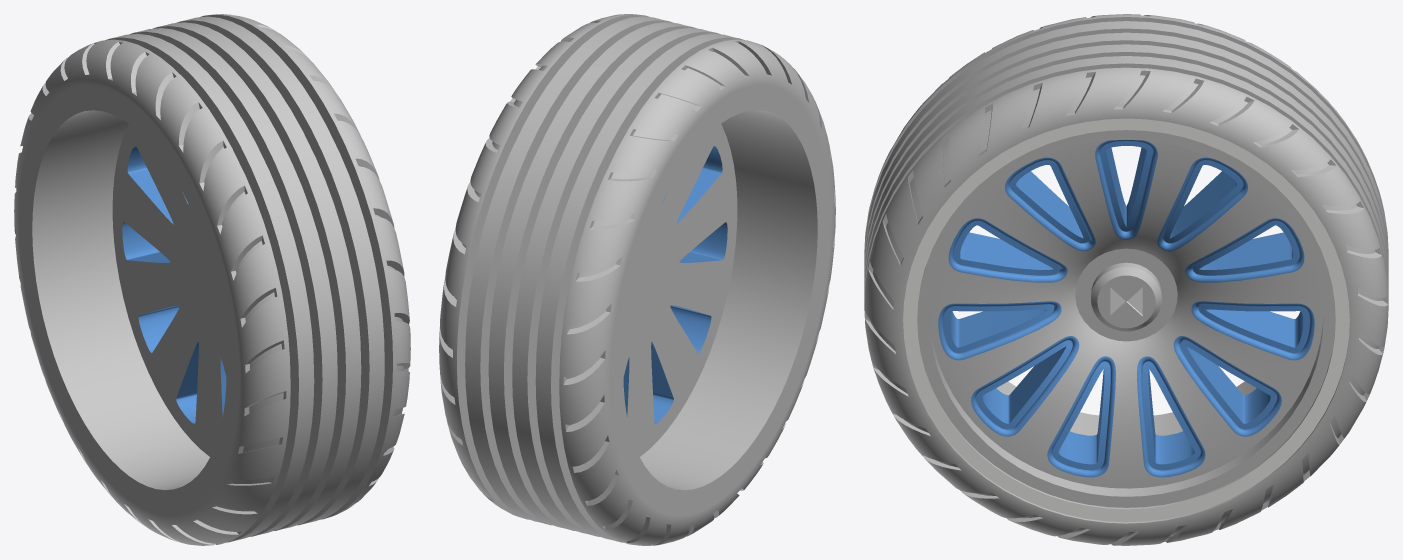
Rendered from rollsRoyceRims.fbx.
The picture shows the model from 3 angles, left to right: view 1: azimuth 30°, elevation 25°; view 2: azimuth 150°, elevation 25°; view 3: azimuth 270°, elevation 25°; orthographic projection.
Parts seen in each view (by area): view 1: Body1; view 2: Body1; view 3: Body1.
Part boxes in pixels (box(x1,y1,x2,y2)): Body1: box(14, 14, 410, 545); Body1: box(439, 14, 835, 545); Body1: box(864, 14, 1388, 545).
Size of the model in its own units: 6 by 16.2 by 16.2.
